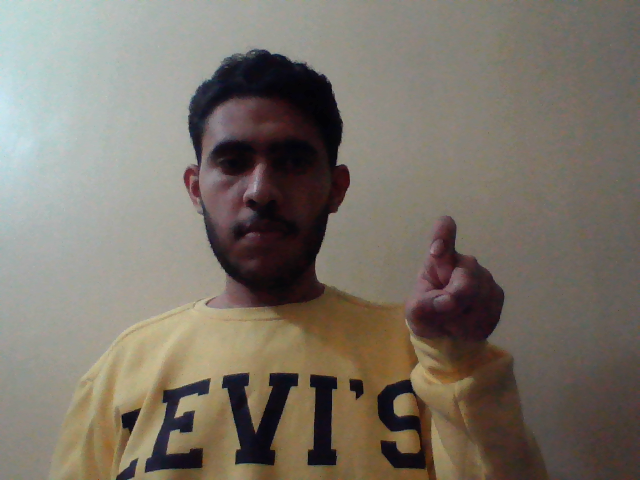X: (401, 214, 505, 356)
